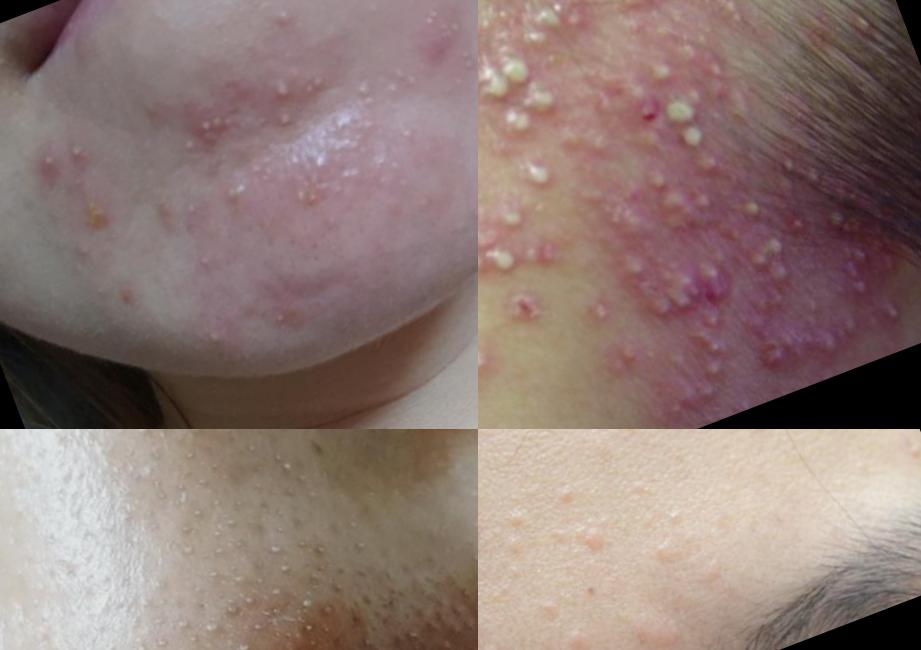blackhead: (229, 430, 389, 613), (291, 552, 479, 650), (143, 463, 248, 569), (171, 555, 281, 650), (178, 430, 221, 453)
flat_wart: (621, 594, 693, 650), (693, 555, 751, 610), (568, 511, 622, 569), (651, 537, 700, 577), (535, 637, 594, 650)
purulent: (615, 243, 790, 421), (787, 217, 921, 376), (715, 146, 845, 279), (600, 1, 747, 102), (479, 42, 581, 156), (598, 166, 709, 263), (479, 192, 549, 294), (496, 1, 609, 52), (645, 80, 717, 148), (515, 145, 577, 203), (479, 317, 524, 390), (666, 112, 726, 166), (271, 104, 316, 146), (265, 1, 308, 41), (345, 73, 388, 109), (198, 319, 234, 358), (265, 76, 302, 109), (296, 69, 332, 102), (63, 136, 94, 172), (268, 305, 298, 339), (36, 144, 64, 178)
sebo-crystan-conglo: (282, 96, 388, 178), (280, 150, 375, 220), (171, 97, 266, 159), (406, 1, 479, 59), (70, 189, 121, 241), (213, 171, 264, 213)
whitehead: (367, 153, 416, 202), (378, 58, 426, 103), (176, 192, 213, 229), (390, 117, 428, 151), (538, 591, 576, 624), (666, 504, 697, 540), (553, 480, 588, 509), (188, 248, 222, 276), (316, 206, 349, 233), (501, 506, 535, 531), (900, 440, 921, 478), (564, 625, 595, 650), (499, 537, 530, 559), (457, 44, 479, 71), (451, 74, 468, 91)
